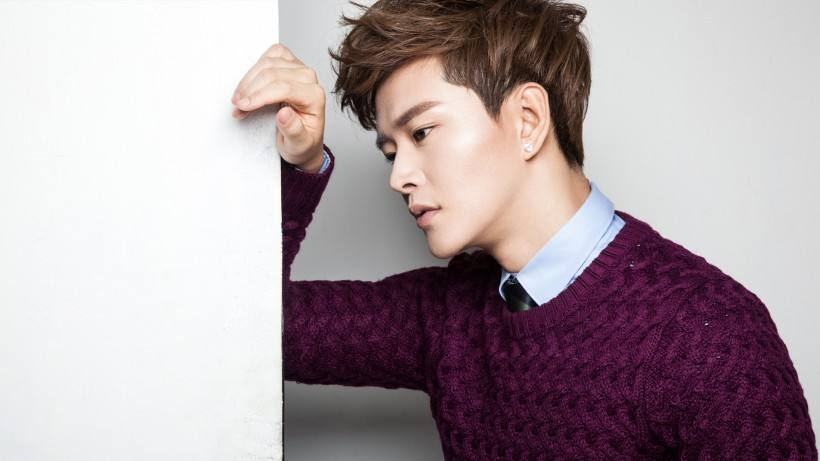person: (319, 28, 716, 432)
